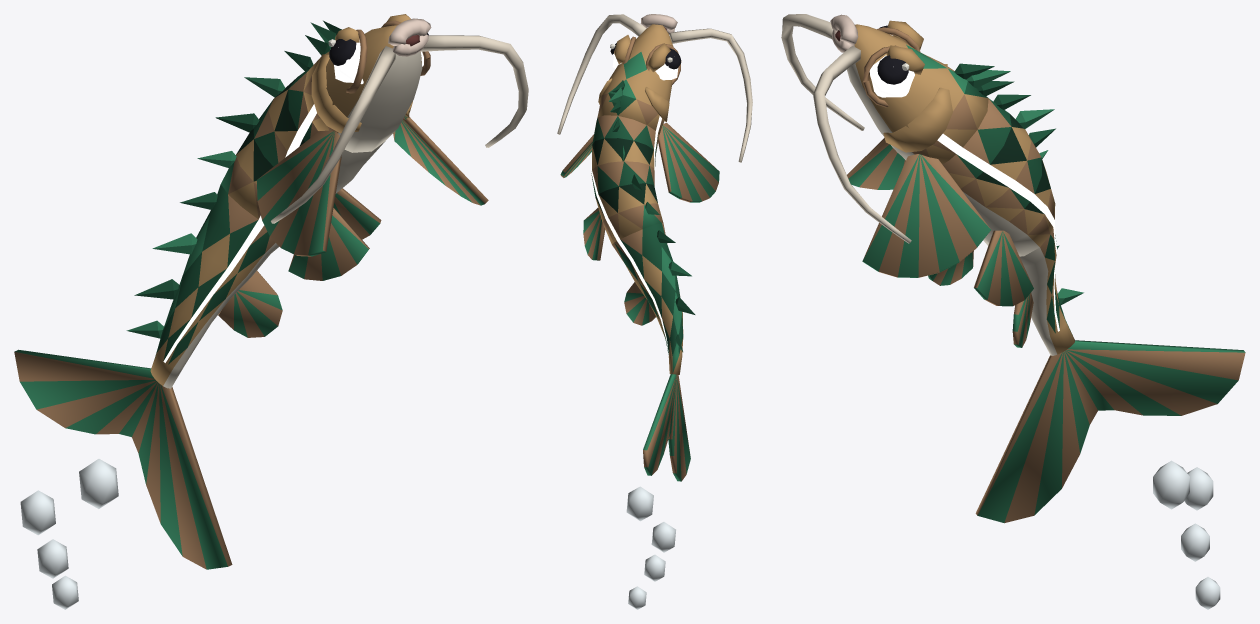
File: carp-falls-climber.glb
The picture shows the model from 3 angles, left to right: view 1: azimuth 30°, elevation 25°; view 2: azimuth 150°, elevation 25°; view 3: azimuth 270°, elevation 25°; orthographic projection. The views are drawn at different scales.
Visible parts, largest first — view 1: wag_body_2, wag_body_1, wag_body_0, carp_head, glide_fin_r, spray, glide_fin_l, sway_barbel_r, sway_barbel_l, pulse_gill_r, blink_eye_r; view 2: wag_body_0, wag_body_1, carp_head, glide_fin_r, wag_body_2, spray, sway_barbel_r, sway_barbel_l, blink_eye_r, glide_fin_l, pulse_gill_r; view 3: wag_body_2, wag_body_0, carp_head, glide_fin_l, wag_body_1, spray, sway_barbel_l, pulse_gill_l, glide_fin_r, sway_barbel_r, blink_eye_l.
Boxes of the visible parts, x1,y1,x2,y2 form: wag_body_2: (14, 349, 232, 569); wag_body_1: (126, 184, 282, 388); wag_body_0: (197, 51, 385, 280); carp_head: (303, 14, 431, 152); glide_fin_r: (256, 130, 341, 256); spray: (20, 459, 118, 609); glide_fin_l: (393, 115, 488, 205); sway_barbel_r: (271, 46, 395, 223); sway_barbel_l: (419, 35, 528, 147); pulse_gill_r: (311, 54, 361, 133); blink_eye_r: (328, 39, 363, 84); wag_body_0: (583, 115, 663, 260); wag_body_1: (612, 223, 695, 374); carp_head: (597, 14, 681, 134); glide_fin_r: (658, 122, 719, 202); wag_body_2: (643, 374, 690, 481); spray: (626, 486, 675, 609); sway_barbel_r: (669, 28, 752, 162); sway_barbel_l: (557, 14, 646, 134); blink_eye_r: (655, 48, 681, 80); glide_fin_l: (560, 134, 593, 177); pulse_gill_r: (645, 87, 669, 121); wag_body_2: (975, 340, 1245, 523); wag_body_0: (928, 94, 1055, 306); carp_head: (830, 14, 1014, 164); glide_fin_l: (862, 154, 990, 277); wag_body_1: (1012, 221, 1083, 355); spray: (1153, 460, 1220, 609); sway_barbel_l: (813, 46, 911, 243); pulse_gill_l: (883, 87, 952, 152); glide_fin_r: (847, 138, 905, 189); sway_barbel_r: (781, 14, 864, 130); blink_eye_l: (869, 55, 914, 97).
Size of the model in its own units: 0.4914 by 0.9951 by 0.6306.
